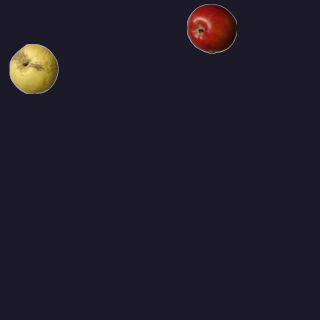Apple Braeburn: (186, 3, 236, 53)
Apple Golden 1: (8, 43, 58, 93)
